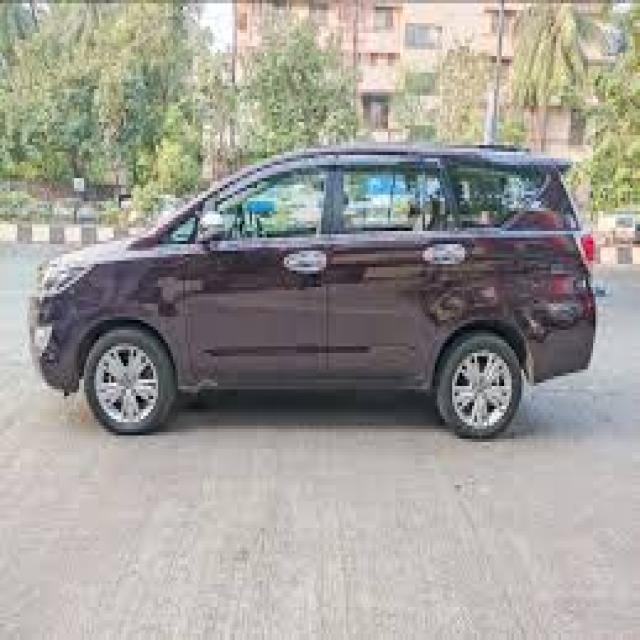light_vehicle: (27, 143, 597, 441)
